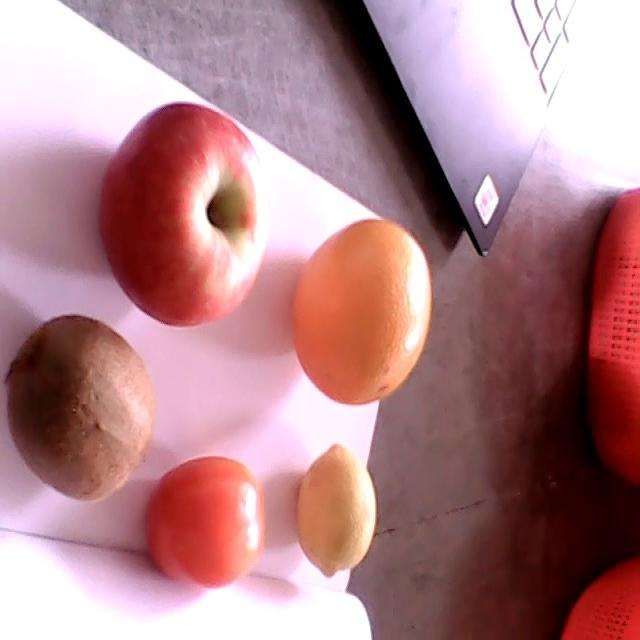apple: (98, 103, 269, 329)
kiwi: (5, 316, 154, 503)
lemon: (296, 445, 377, 579)
orange: (291, 221, 432, 404)
tomato: (142, 456, 266, 589)
